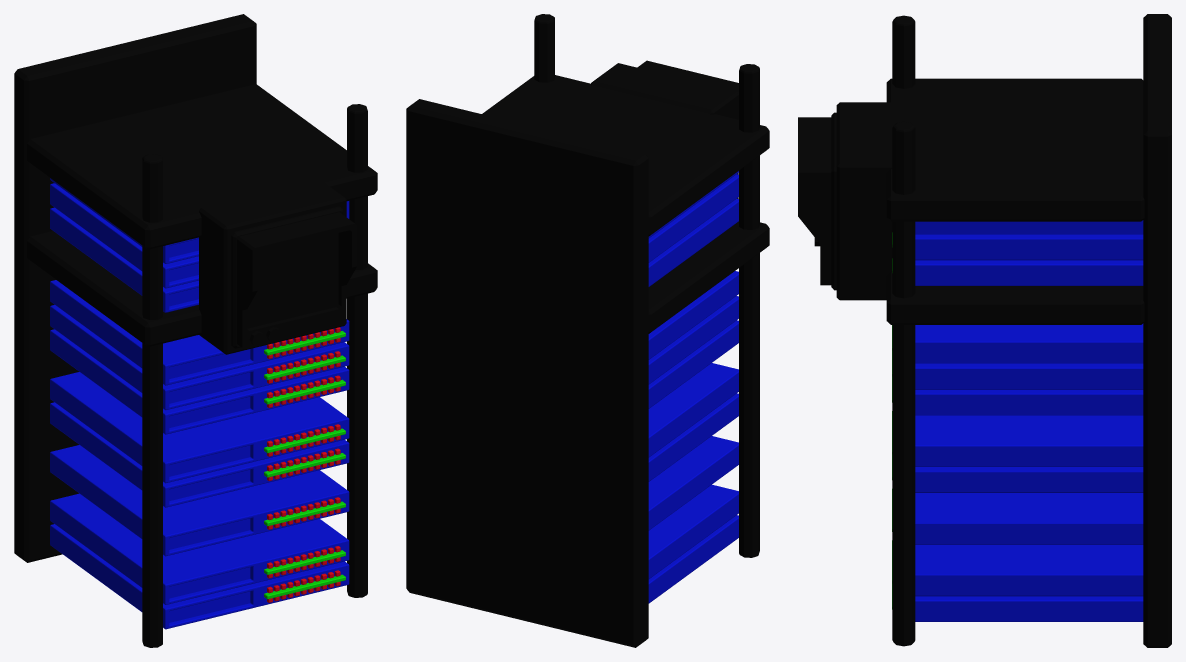
Rendered from Server_Rack_New.fbx.
3 renders of one model, left to right at view 1: azimuth 30°, elevation 25°; view 2: azimuth 150°, elevation 25°; view 3: azimuth 270°, elevation 25°, orthographic. The views are drawn at different scales.
Visible parts, largest first — view 1: Server_Rack; view 2: Server_Rack; view 3: Server_Rack.
Part boxes in pixels (x1=…): Server_Rack: x1=14, y1=14, x2=377, y2=647; Server_Rack: x1=406, y1=14, x2=769, y2=647; Server_Rack: x1=798, y1=14, x2=1171, y2=647.
Size of the model in its own units: 100 by 200 by 131.
